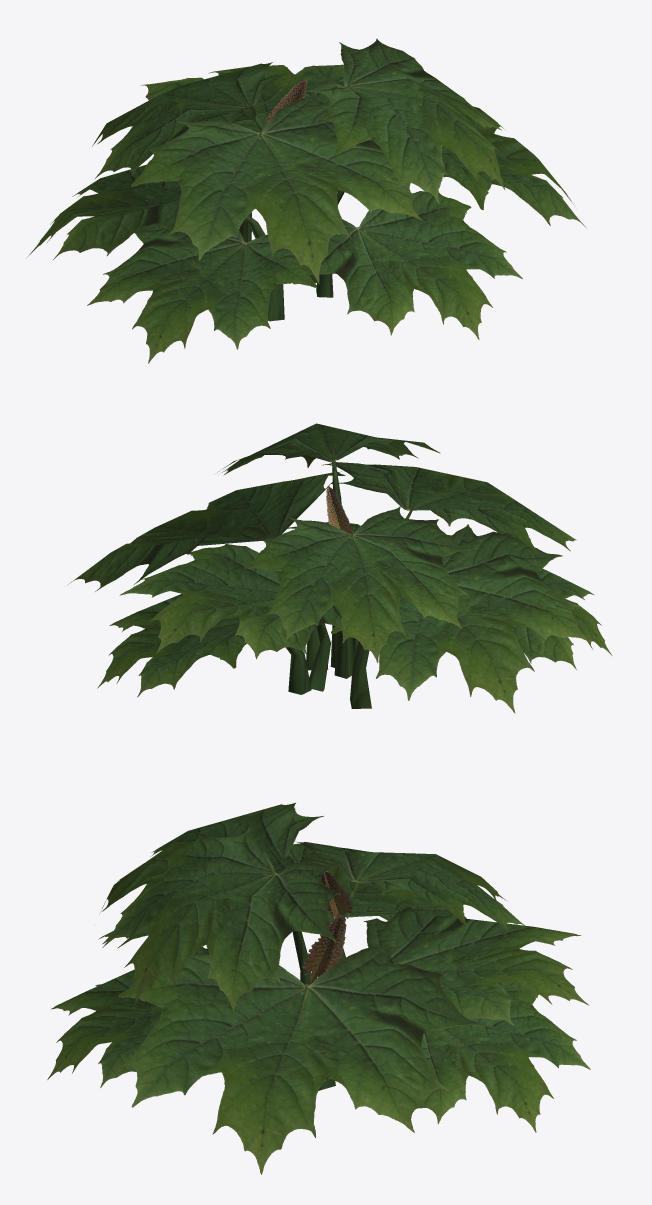
The model's file is Gunnera.dae.
The picture shows the model from 3 angles, top to bottom: view 1: azimuth 30°, elevation 25°; view 2: azimuth 150°, elevation 25°; view 3: azimuth 270°, elevation 25°; orthographic projection. The views are drawn at different scales.
Visible parts, largest first — view 1: group_0, group_10, group_1, group_12, group_9, group_2, group_6, group_11, group_15; view 2: group_9, group_2, group_11, group_6, group_0, group_8, group_1, group_12, group_14, group_20, group_16, group_18 (+1 smaller); view 3: group_6, group_1, group_11, group_8, group_9, group_10, group_0, group_2, group_5 (×2).
Part boxes in pixels (x1=…): group_0: x1=131, y1=92, x2=421, y2=283; group_10: x1=306, y1=191, x2=522, y2=339; group_1: x1=305, y1=38, x2=505, y2=203; group_12: x1=87, y1=223, x2=316, y2=363; group_9: x1=92, y1=62, x2=290, y2=178; group_2: x1=26, y1=164, x2=181, y2=259; group_6: x1=335, y1=68, x2=586, y2=227; group_11: x1=140, y1=64, x2=344, y2=132; group_15: x1=245, y1=215, x2=284, y2=321; group_9: x1=245, y1=506, x2=471, y2=662; group_2: x1=331, y1=524, x2=590, y2=713; group_11: x1=119, y1=544, x2=341, y2=659; group_6: x1=67, y1=471, x2=345, y2=591; group_0: x1=322, y1=462, x2=576, y2=554; group_8: x1=97, y1=594, x2=246, y2=697; group_1: x1=217, y1=423, x2=440, y2=475; group_12: x1=513, y1=568, x2=612, y2=669; group_14: x1=350, y1=493, x2=420, y2=708; group_20: x1=309, y1=623, x2=330, y2=691; group_16: x1=286, y1=647, x2=311, y2=694; group_18: x1=334, y1=524, x2=354, y2=678; group_6: x1=118, y1=944, x2=482, y2=1174; group_1: x1=103, y1=827, x2=340, y2=1011; group_11: x1=363, y1=905, x2=589, y2=1027; group_8: x1=421, y1=981, x2=590, y2=1132; group_9: x1=294, y1=841, x2=524, y2=930; group_10: x1=47, y1=947, x2=209, y2=1087; group_0: x1=99, y1=802, x2=323, y2=947; group_2: x1=286, y1=843, x2=447, y2=921; group_5 (×2): x1=302, y1=871, x2=353, y2=982.
Bounding box in the file's own units: 219 × 192 × 86.17.
Materials: 1 (1 with a texture image).
